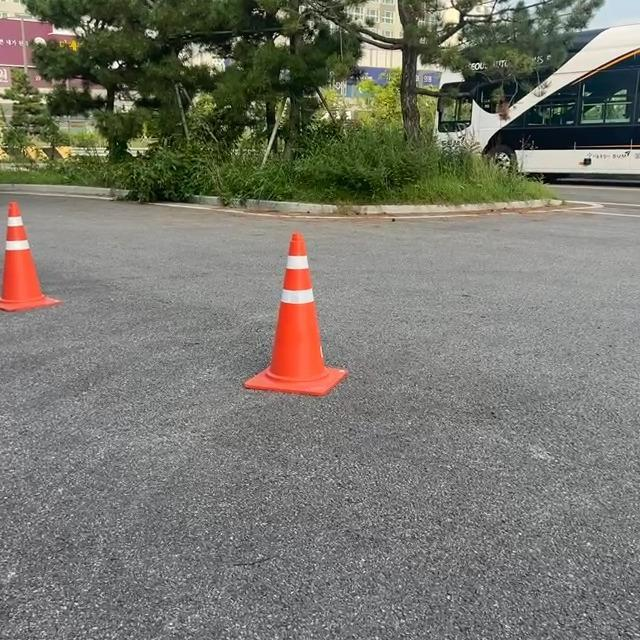fallen_object: (220, 220, 337, 428), (0, 193, 73, 351)
